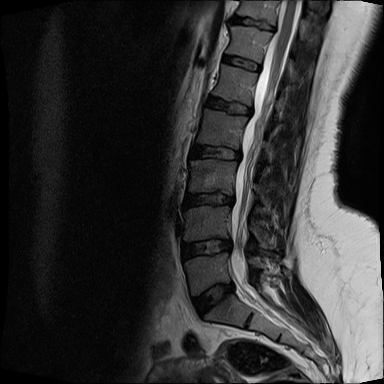Degenerative Disc Disease (DDD): (180, 182, 241, 209)
Lumbar Disc Bulge (LDB): (185, 270, 240, 323), (177, 225, 236, 265), (183, 133, 249, 166), (201, 86, 258, 120)
Normal IVD: (214, 48, 267, 74)
Spinal Stenosis (SS): (216, 229, 241, 262), (226, 143, 252, 169), (238, 101, 264, 126), (263, 15, 291, 37), (226, 276, 238, 300)
Thoracic Disc Bulge (TDB): (223, 7, 285, 35)
